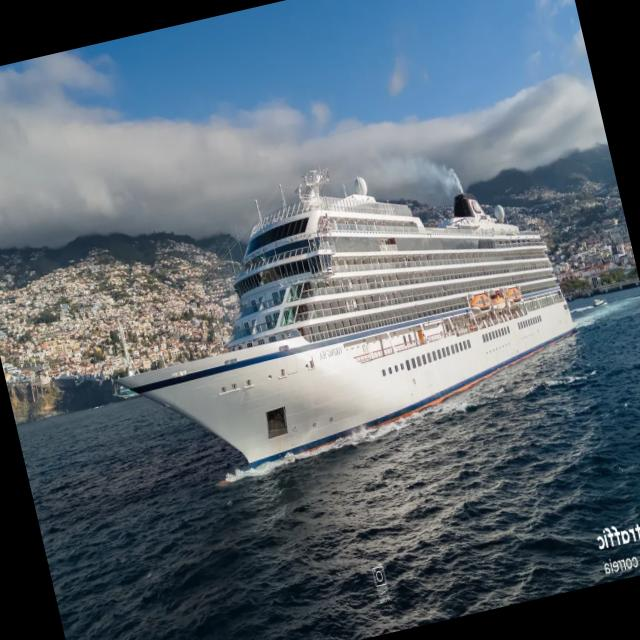Cruise: (116, 168, 575, 465)
